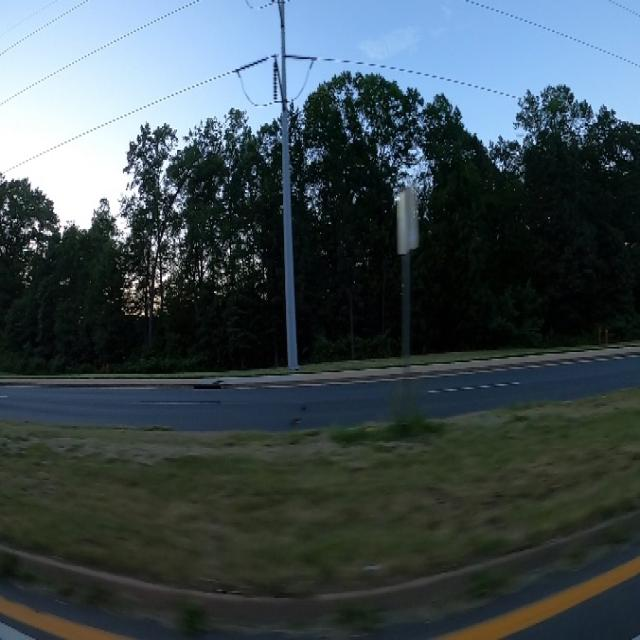Cars: (193, 384, 223, 392)
